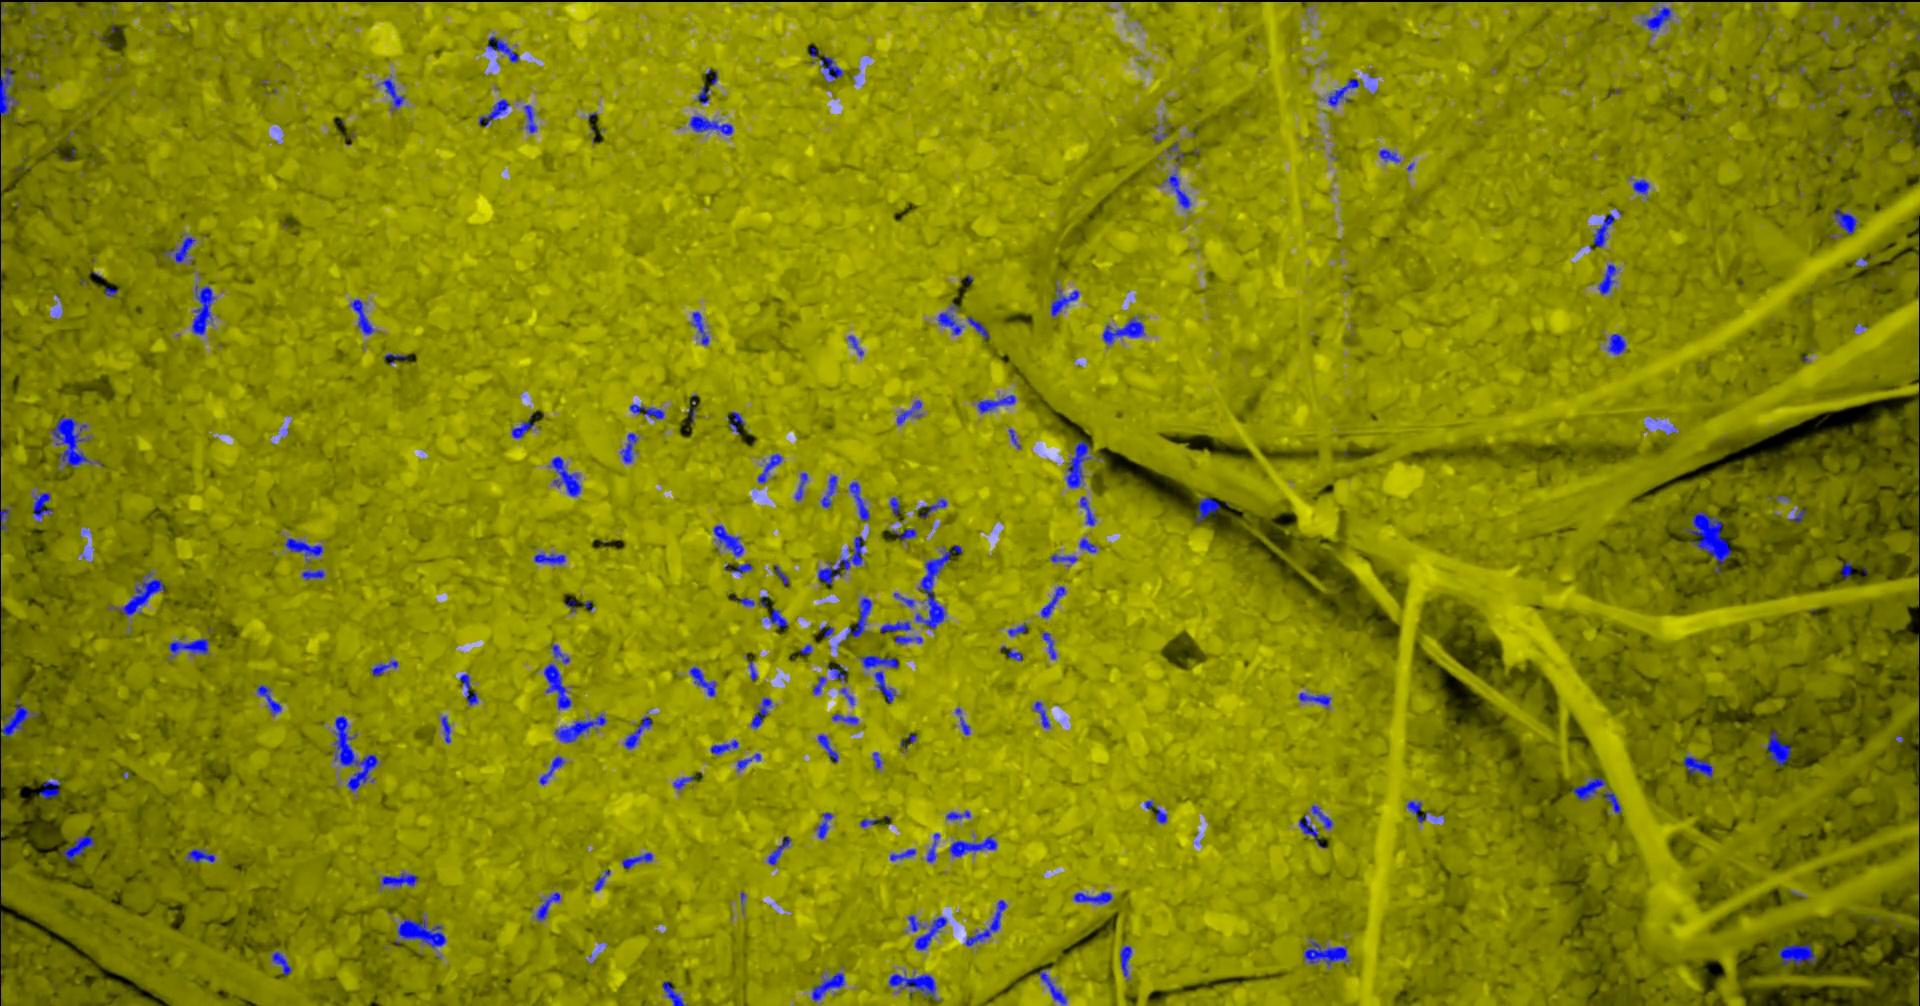ant: (914, 544, 963, 629), (50, 417, 103, 466), (107, 572, 165, 616), (817, 535, 863, 584), (965, 899, 1006, 945), (0, 699, 38, 743), (888, 970, 940, 1001), (394, 917, 444, 948), (554, 713, 606, 742), (549, 456, 582, 495), (543, 663, 571, 709), (0, 50, 18, 121), (1303, 940, 1349, 967), (190, 285, 215, 334), (1065, 439, 1091, 486), (1102, 316, 1144, 344), (914, 916, 946, 950), (844, 597, 871, 638), (60, 835, 95, 862), (1037, 969, 1065, 1005), (1164, 171, 1191, 208), (712, 525, 743, 556), (811, 972, 844, 1001), (949, 836, 996, 856), (1050, 285, 1078, 318), (623, 716, 651, 749), (284, 537, 323, 561), (1777, 942, 1816, 965), (1766, 729, 1790, 766), (1327, 77, 1359, 105), (477, 98, 509, 126), (163, 236, 196, 263), (1298, 814, 1324, 847), (349, 298, 373, 334), (1571, 776, 1606, 800), (486, 36, 518, 62), (690, 116, 733, 135), (1040, 586, 1065, 617), (381, 75, 404, 109), (937, 304, 963, 334), (848, 481, 869, 520), (690, 666, 715, 696), (257, 683, 281, 715), (757, 453, 782, 483), (535, 890, 560, 920), (766, 835, 790, 865), (977, 394, 1015, 413), (872, 671, 895, 702), (168, 638, 208, 655), (1592, 213, 1614, 246), (538, 756, 564, 784), (1642, 6, 1671, 30), (1195, 495, 1219, 523), (1683, 754, 1712, 777), (1832, 207, 1857, 234), (750, 697, 771, 728), (662, 981, 687, 1005), (691, 311, 709, 345), (618, 432, 637, 464), (458, 673, 477, 705), (820, 55, 842, 83), (817, 734, 838, 762), (629, 403, 664, 419), (897, 400, 921, 424), (378, 873, 418, 887), (1073, 890, 1112, 904), (1597, 263, 1615, 293), (32, 492, 52, 518), (1310, 804, 1332, 828), (919, 498, 946, 517), (820, 474, 836, 507), (858, 655, 898, 668), (966, 316, 989, 338), (1298, 692, 1330, 708), (33, 780, 60, 798), (1600, 791, 1622, 813), (1406, 800, 1427, 822), (621, 852, 651, 868), (270, 951, 291, 974), (1079, 495, 1095, 525), (371, 659, 397, 676), (1032, 701, 1049, 728), (815, 812, 832, 838), (1119, 945, 1131, 979), (510, 420, 535, 438), (710, 739, 738, 754), (924, 832, 938, 862), (1606, 333, 1625, 354), (185, 848, 215, 862), (1166, 142, 1183, 165), (954, 708, 969, 734), (737, 752, 759, 770), (794, 473, 808, 500), (1041, 631, 1055, 659), (726, 412, 744, 433), (533, 553, 565, 564), (768, 608, 787, 627), (550, 644, 569, 663), (827, 663, 847, 681), (593, 869, 610, 890), (523, 104, 536, 132), (999, 645, 1022, 661), (847, 335, 863, 356), (893, 592, 914, 607), (673, 774, 695, 789), (879, 621, 910, 631), (724, 561, 752, 573), (830, 713, 858, 724), (889, 848, 916, 860), (1378, 149, 1399, 163), (775, 565, 789, 587), (1632, 179, 1650, 196), (907, 915, 924, 931), (1078, 537, 1096, 553), (900, 733, 916, 751), (1007, 622, 1026, 636), (383, 353, 406, 365), (893, 528, 916, 540), (301, 569, 324, 580), (731, 594, 754, 606), (439, 716, 450, 742), (945, 810, 970, 821), (687, 394, 696, 422), (894, 635, 922, 644), (811, 676, 825, 694), (1050, 554, 1077, 563), (1789, 508, 1806, 522), (697, 84, 709, 103), (889, 495, 900, 514), (0, 508, 9, 532), (1840, 561, 1851, 578), (1154, 807, 1166, 823), (819, 624, 833, 636), (872, 751, 881, 768)
